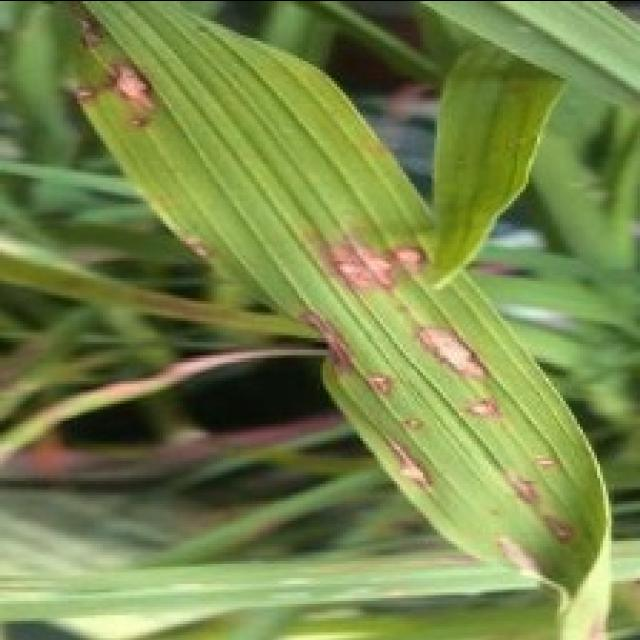Unhealthy: (0, 420, 356, 478), (95, 347, 331, 400), (303, 232, 426, 288), (78, 59, 160, 112), (414, 326, 492, 381), (297, 310, 353, 378), (385, 433, 438, 497), (500, 533, 543, 579), (505, 467, 541, 506), (363, 369, 393, 398), (543, 515, 574, 543), (82, 17, 102, 53), (460, 397, 497, 415), (179, 235, 209, 256), (535, 455, 558, 464)
